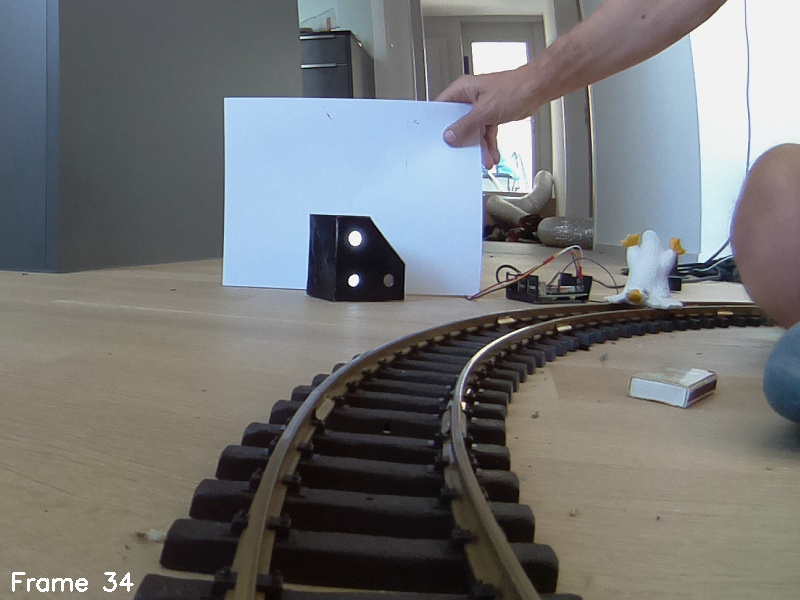Fahrt: (306, 210, 409, 303)
